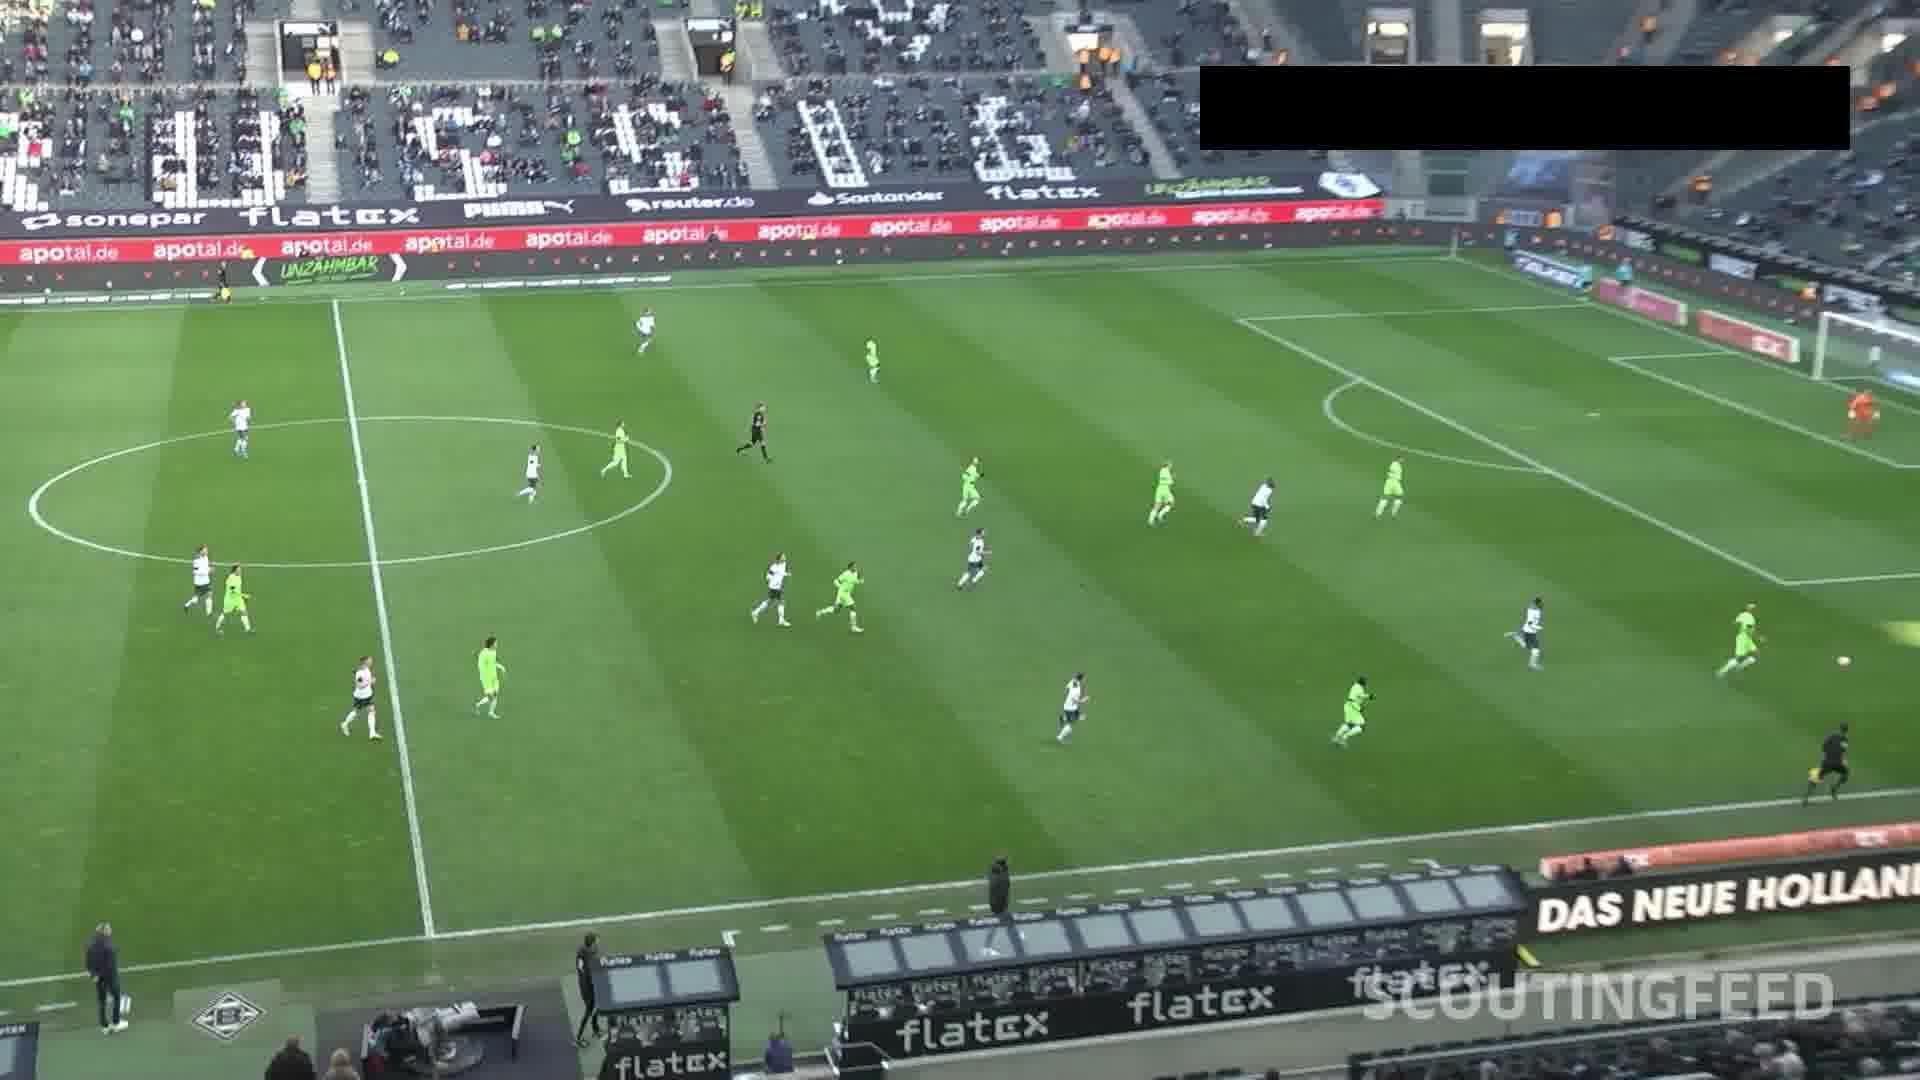football: (1836, 654, 1851, 666)
